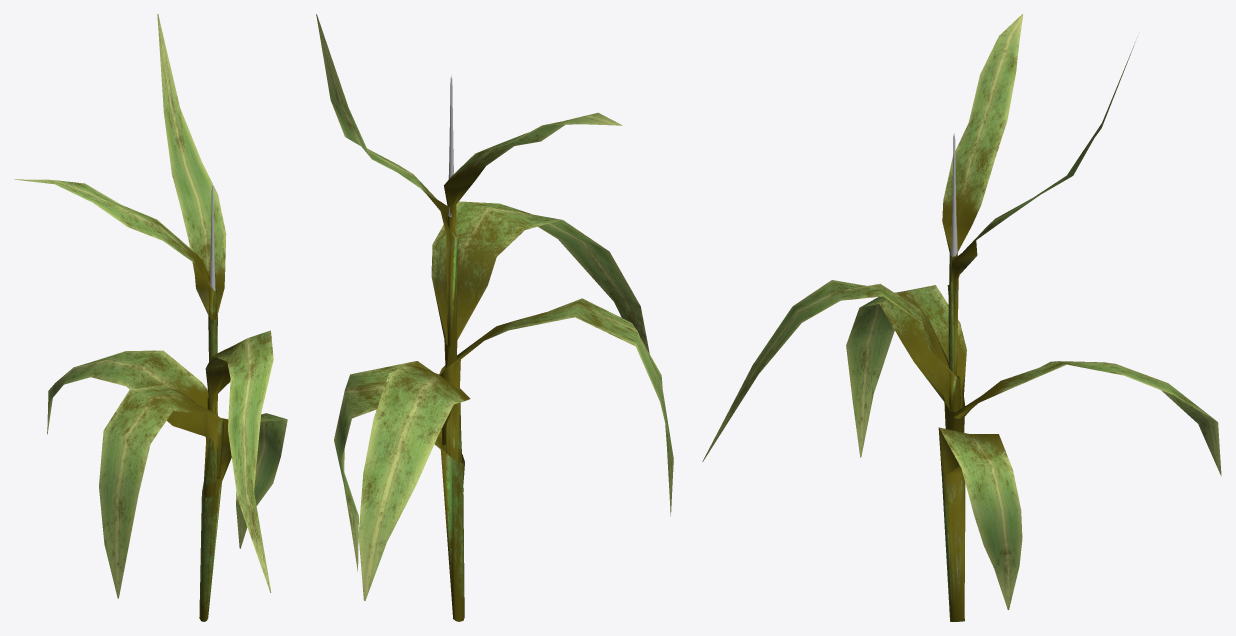
File: PorumbStage1.fbx
3 renders of one model, left to right at view 1: azimuth 30°, elevation 25°; view 2: azimuth 150°, elevation 25°; view 3: azimuth 270°, elevation 25°, orthographic. The views are drawn at different scales.
Visible parts, largest first — view 1: SM_Plant_03; view 2: SM_Plant_03; view 3: SM_Plant_03.
Part boxes in pixels (x1,y1,x2,y2): SM_Plant_03: (14, 14, 287, 621); SM_Plant_03: (316, 14, 673, 621); SM_Plant_03: (702, 14, 1221, 621).
Bounding box in the file's own units: 37.74 × 60.62 × 78.79.
